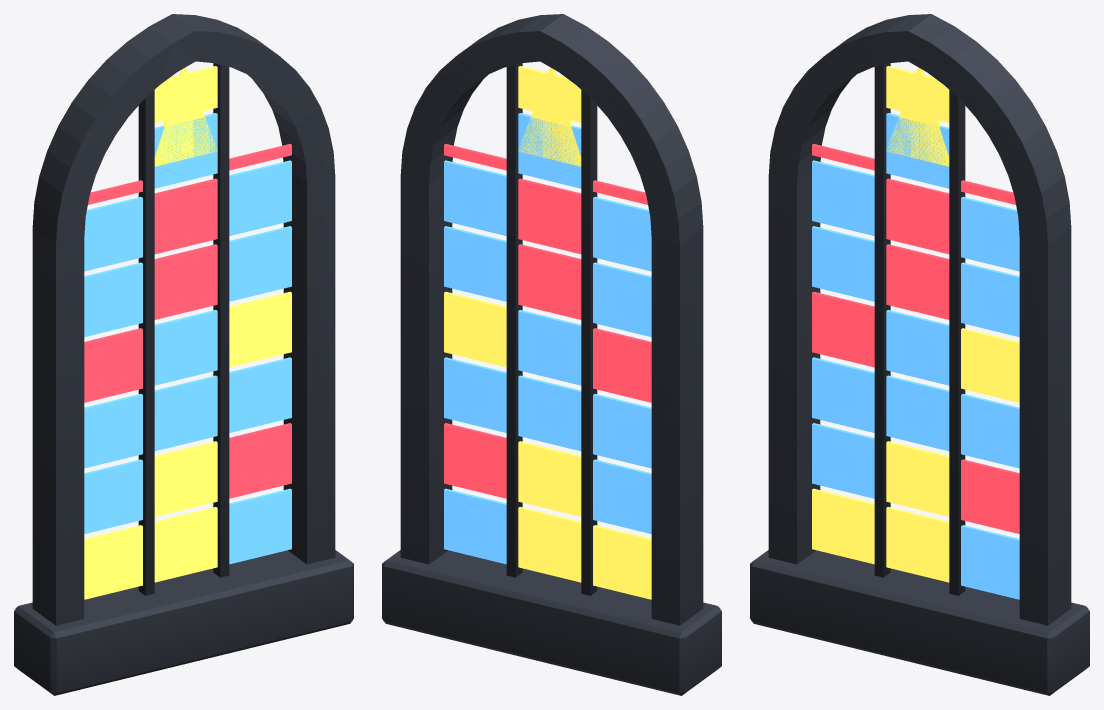
Rendered from stained_glass_window.glb.
3 views of the same model, side by side, from view 1: azimuth 30°, elevation 25°; view 2: azimuth 150°, elevation 25°; view 3: azimuth 330°, elevation 25° (orthographic).
Parts seen in each view (by area): view 1: stained_glass_window_mesh; view 2: stained_glass_window_mesh; view 3: stained_glass_window_mesh.
Part boxes in pixels (left/top/right/bottom): stained_glass_window_mesh: left=14, top=14, right=353, bottom=695; stained_glass_window_mesh: left=382, top=14, right=721, bottom=695; stained_glass_window_mesh: left=750, top=14, right=1089, bottom=695.
Bounding box in the file's own units: 3 × 5.89 × 0.7.
